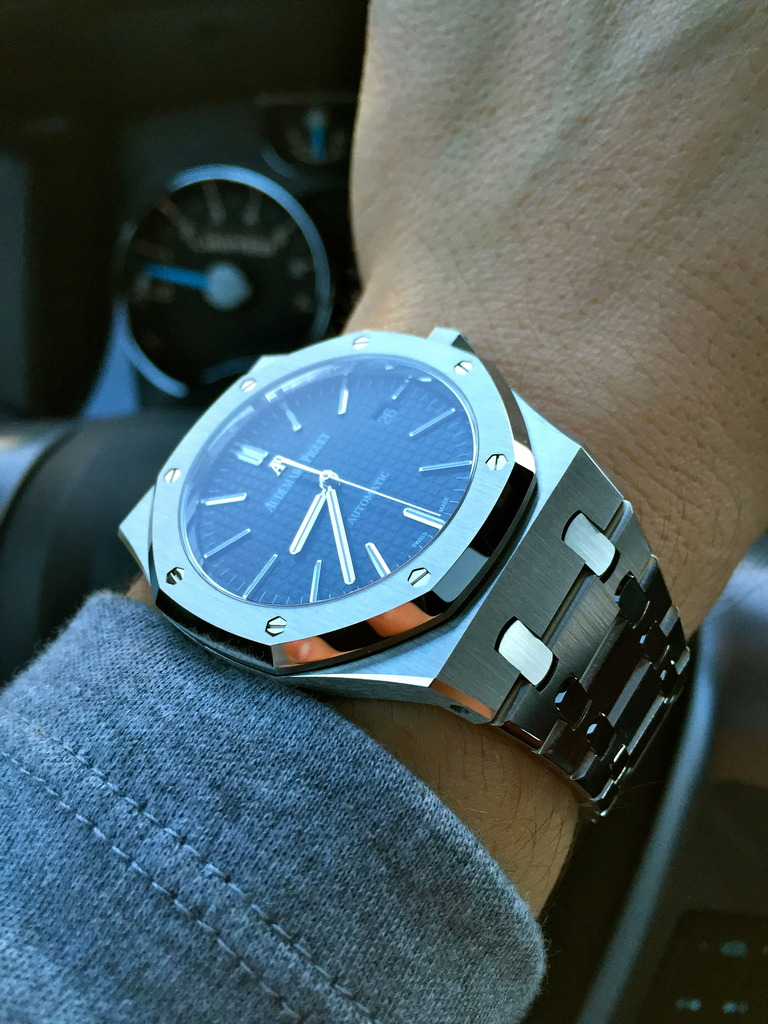clock: (179, 355, 480, 609)
